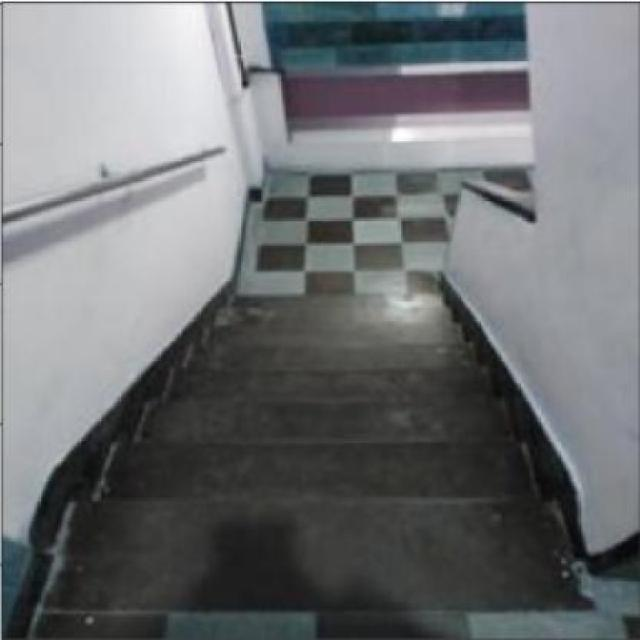stair: (68, 274, 552, 532)
